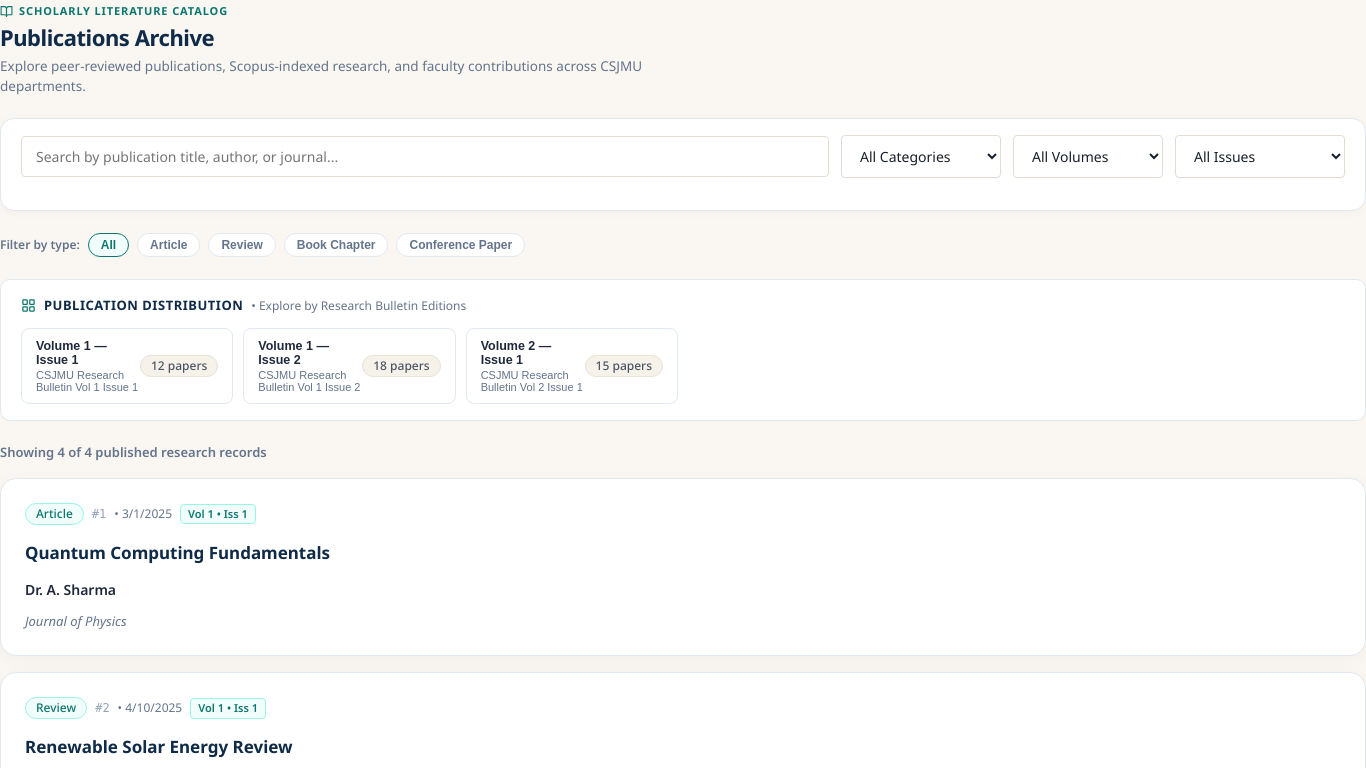
Test: SamikshaPublicationsTab Bulletin Volume, Issue & Counts Architecture › populates issue options corresponding to selected volume with publication counts
// Select Volume 1
Select "Volume 1" in the dropdown named "Filter by volume". click: point(1088, 156)
box: [1013, 135, 1163, 178]
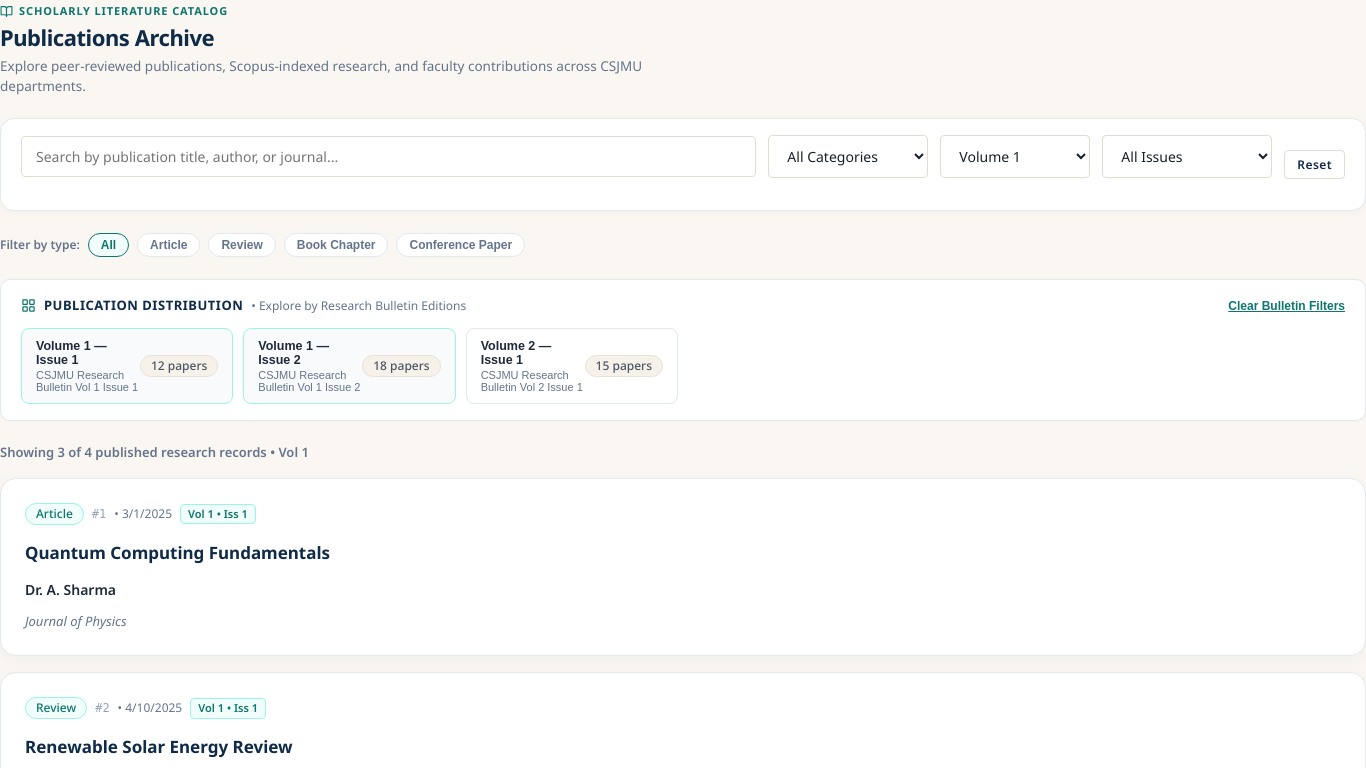
// Select Issue 2
Select "Issue 2 (18 publications)" in the dropdown named "Filter by issue". click: point(1187, 156)
box: [1102, 135, 1272, 178]
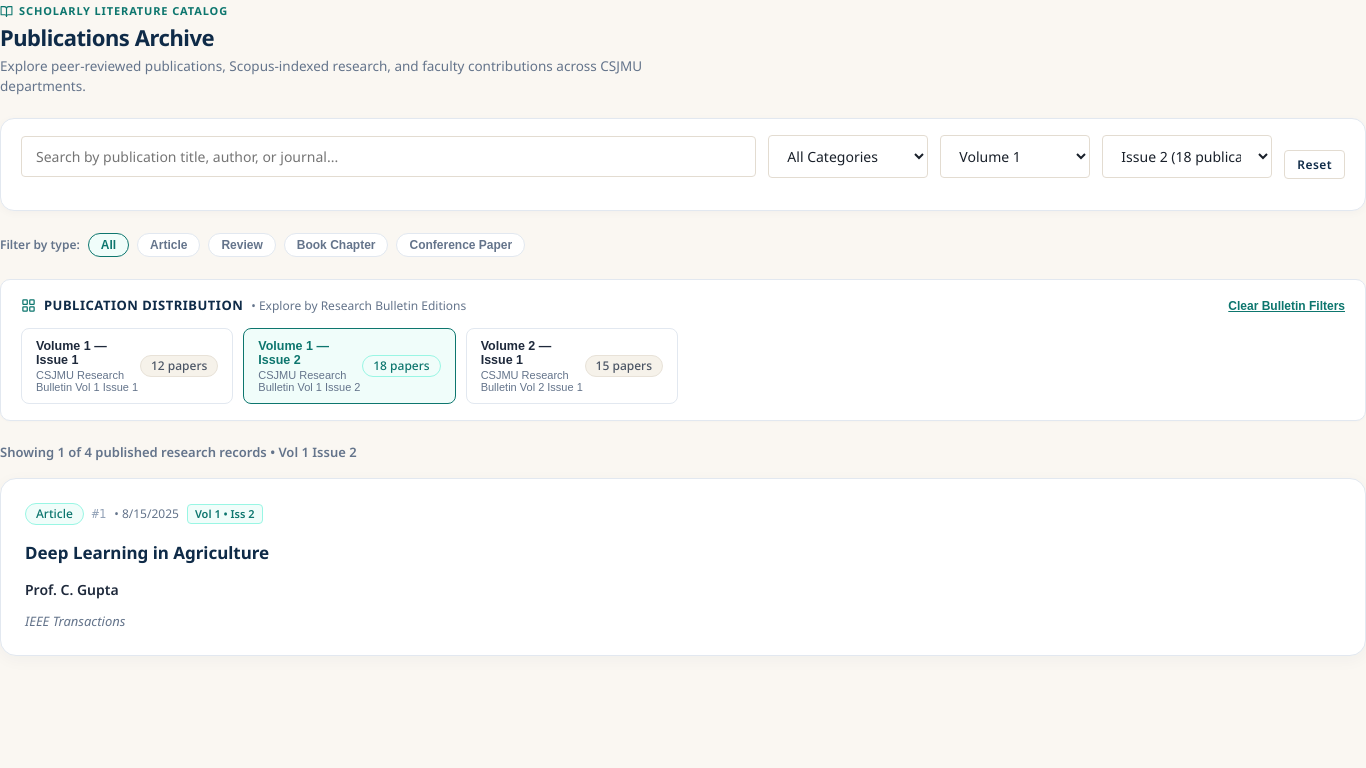
Check: the heading "Deep Learning in Agriculture" is shown, box [25, 541, 269, 564]
Check: the heading "Quantum Computing Fundamentals" is gone
// Switching to Volume 2 should reset Issue 2 since Volume 2 has only Issue 1
Select "Volume 2" in the dropdown named "Filter by volume". click: point(1015, 156)
box: [940, 135, 1090, 178]
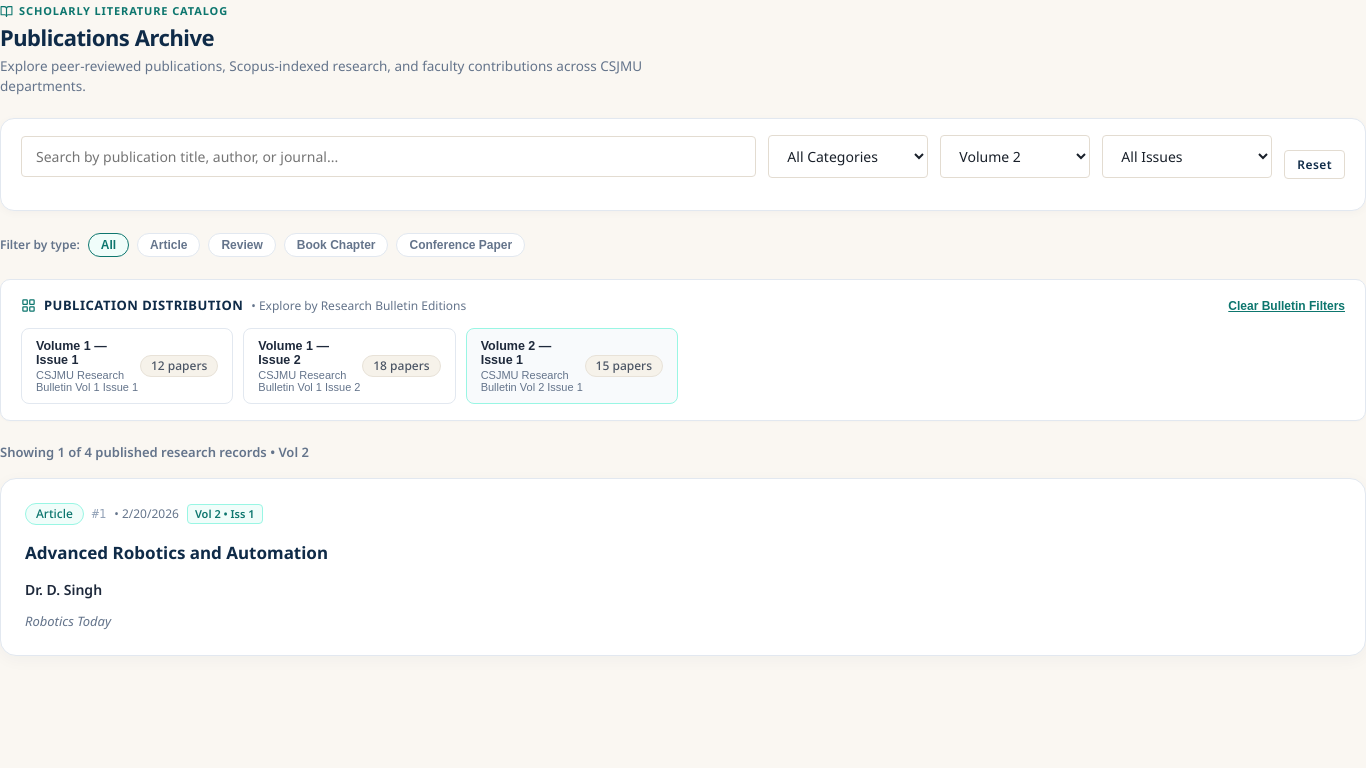
Check: the heading "Advanced Robotics and Automation" is shown, box [25, 541, 328, 564]
